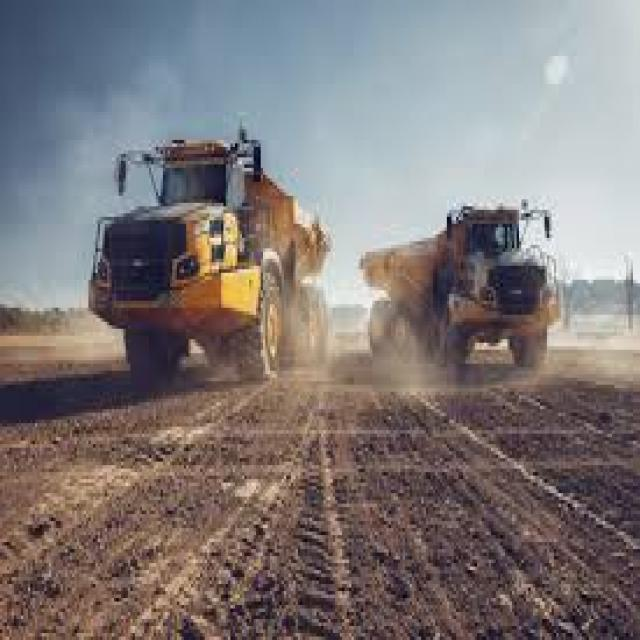dump_truck: (79, 119, 338, 413), (347, 171, 603, 427)
